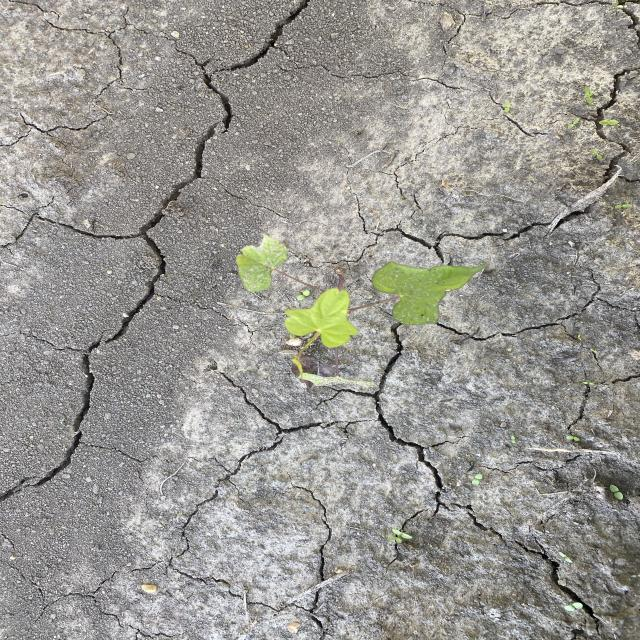MorningGlory: (233, 232, 491, 391)
